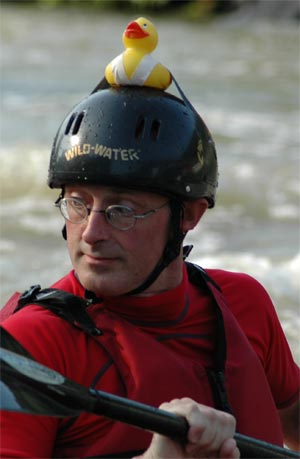helmet: (56, 82, 213, 207)
